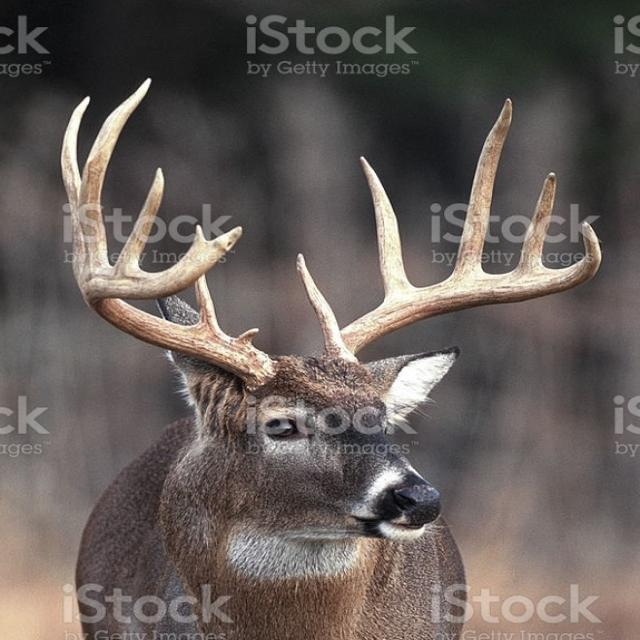E1: (238, 327, 260, 345)
E2: (192, 225, 207, 246)
L-F: (330, 221, 602, 363)
L-G1: (296, 252, 339, 356)
L-G2: (358, 155, 414, 297)
L-G3: (454, 97, 513, 275)
L-G4: (516, 171, 557, 270)
R-F: (80, 226, 279, 392)
R-G1: (194, 276, 219, 328)
R-G3: (78, 78, 152, 273)
R-G4: (114, 166, 165, 273)
